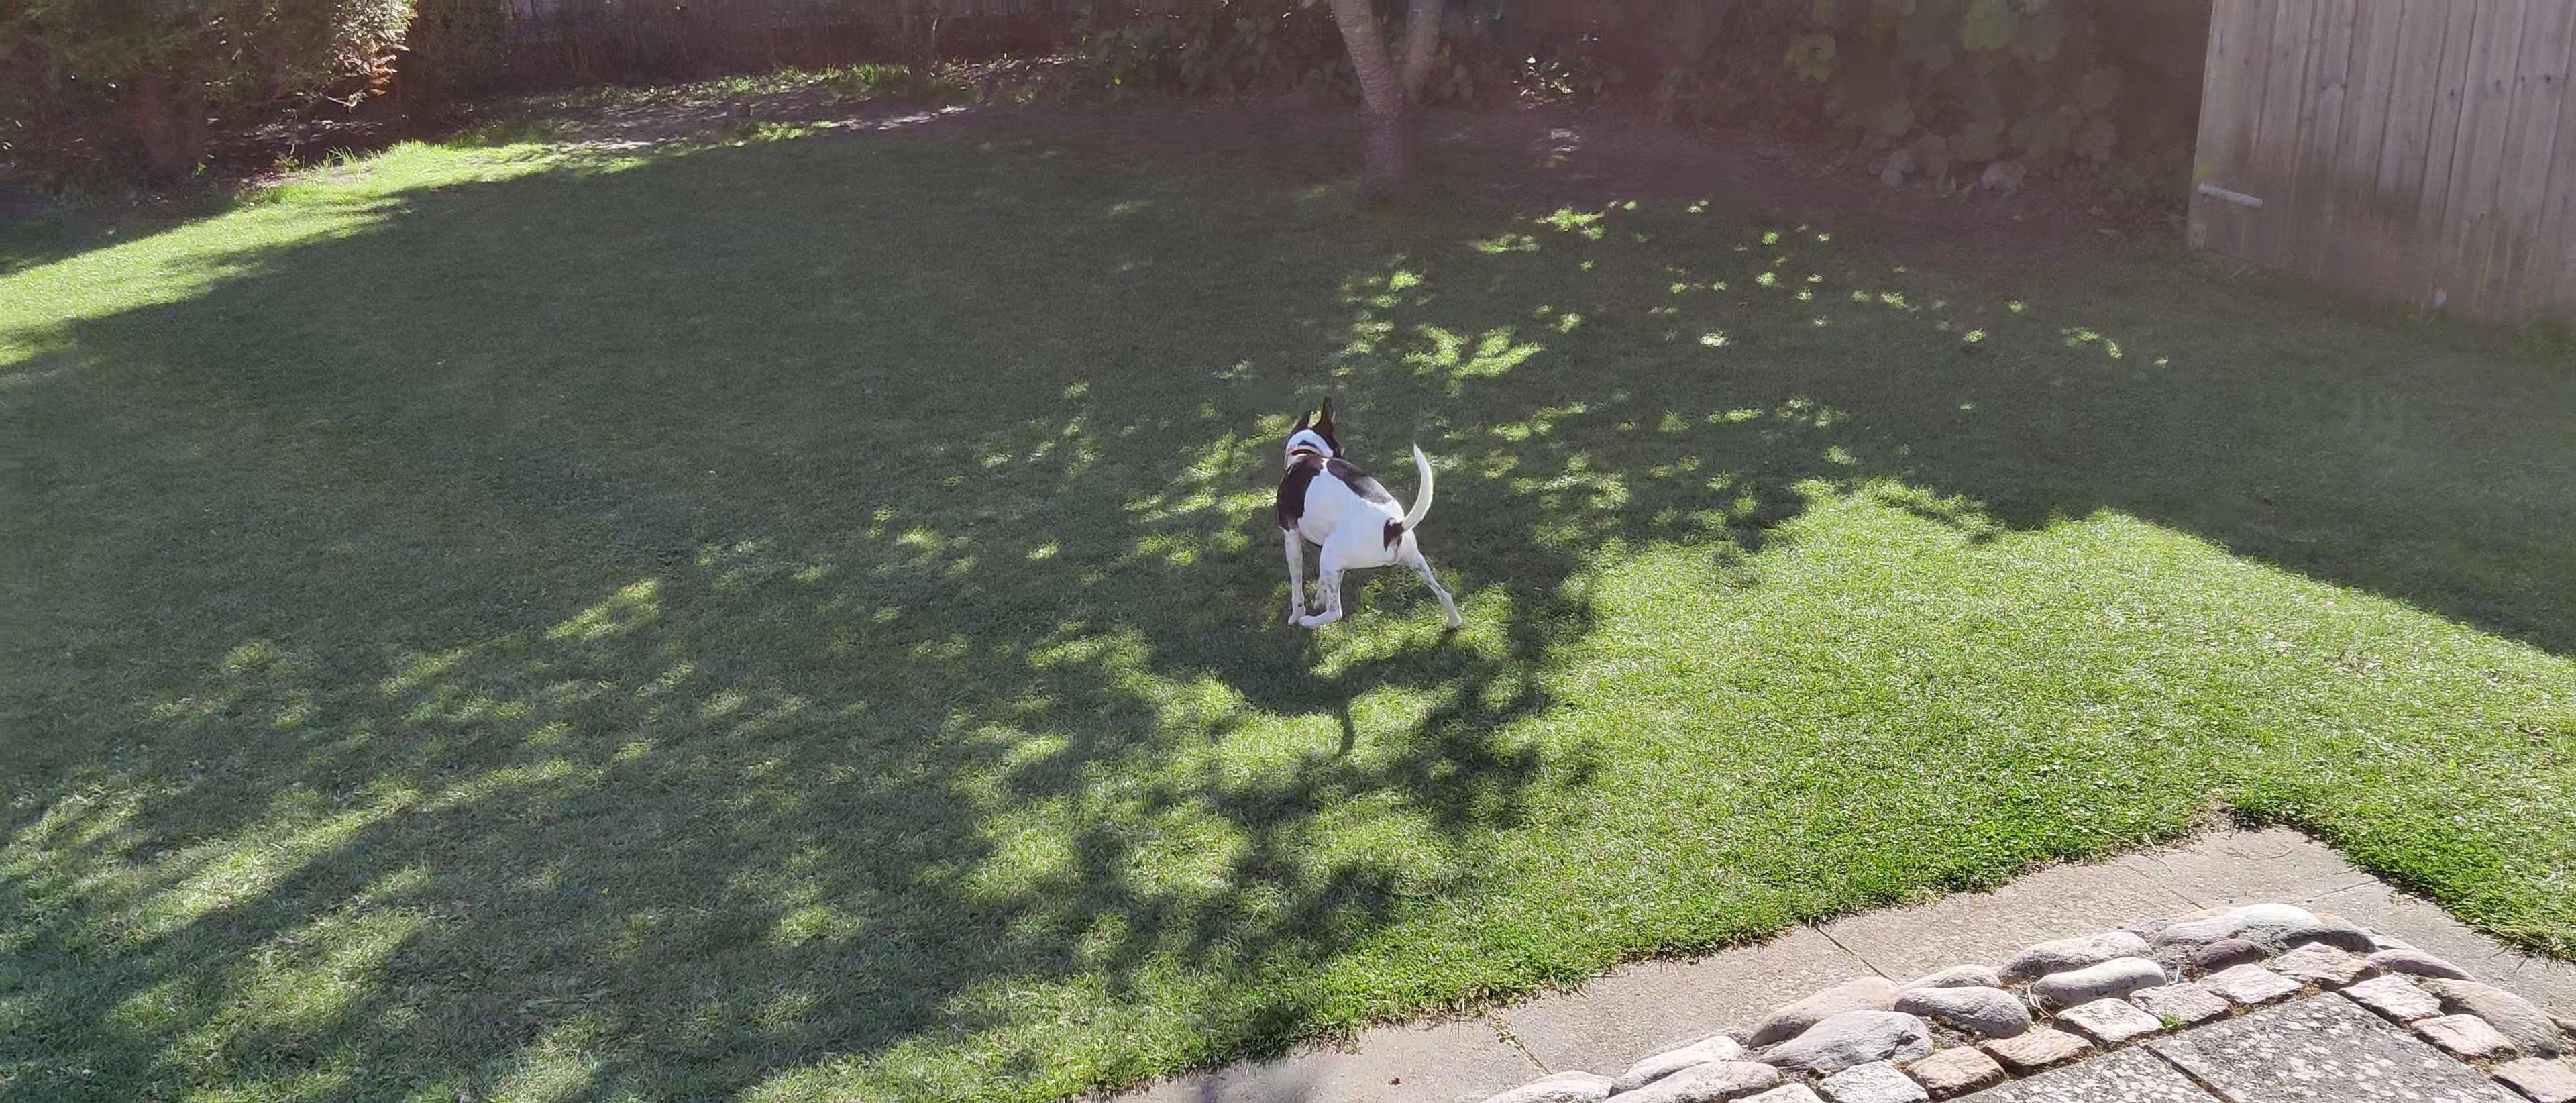Dog: (1244, 381, 1480, 651)
